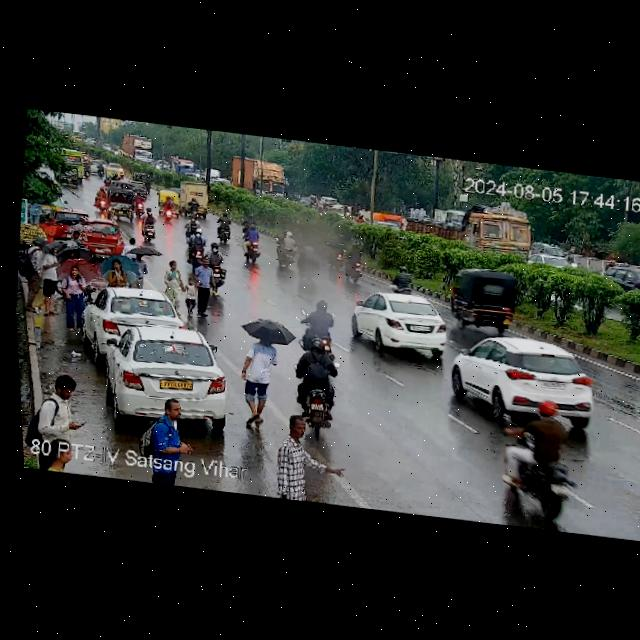bus: (167, 155, 194, 175)
car: (447, 329, 613, 430), (94, 323, 234, 430), (346, 286, 457, 355), (77, 287, 186, 353), (444, 265, 521, 336), (75, 218, 130, 257), (103, 186, 138, 220), (50, 205, 89, 235), (155, 189, 179, 214), (57, 163, 79, 187), (132, 169, 152, 192), (104, 163, 122, 181), (131, 180, 149, 197)
motorcycle: (494, 394, 586, 529), (290, 339, 341, 416), (297, 296, 336, 337), (204, 240, 230, 293), (294, 241, 325, 284), (237, 223, 266, 266), (343, 242, 367, 286), (272, 229, 296, 270), (384, 264, 417, 292), (185, 226, 208, 266), (139, 206, 158, 245), (328, 233, 348, 268), (216, 211, 232, 243), (161, 195, 176, 223), (183, 214, 201, 234), (95, 185, 107, 213), (187, 197, 201, 217), (243, 211, 257, 230), (133, 193, 144, 217), (81, 160, 91, 179), (95, 163, 106, 179)
person: (235, 331, 279, 427), (273, 412, 320, 500), (158, 252, 215, 318), (41, 369, 83, 421), (21, 238, 46, 316), (62, 259, 88, 330), (149, 395, 188, 440), (38, 247, 64, 314), (104, 257, 126, 288), (131, 253, 148, 285), (123, 236, 140, 254), (43, 215, 56, 238), (67, 229, 81, 246)
truck: (394, 196, 543, 258), (227, 155, 287, 199), (600, 260, 640, 298), (177, 178, 212, 219), (119, 132, 154, 166)
